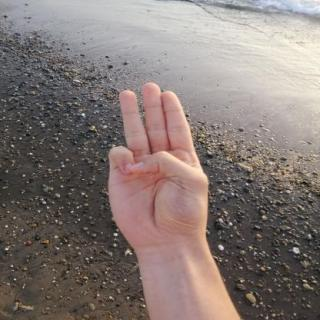THA: (91, 78, 230, 255)
